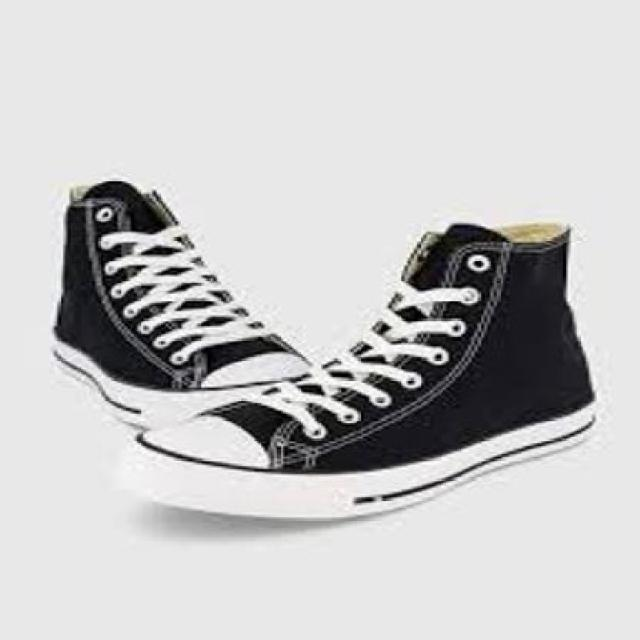not trash: (132, 218, 610, 530), (52, 173, 319, 436)
